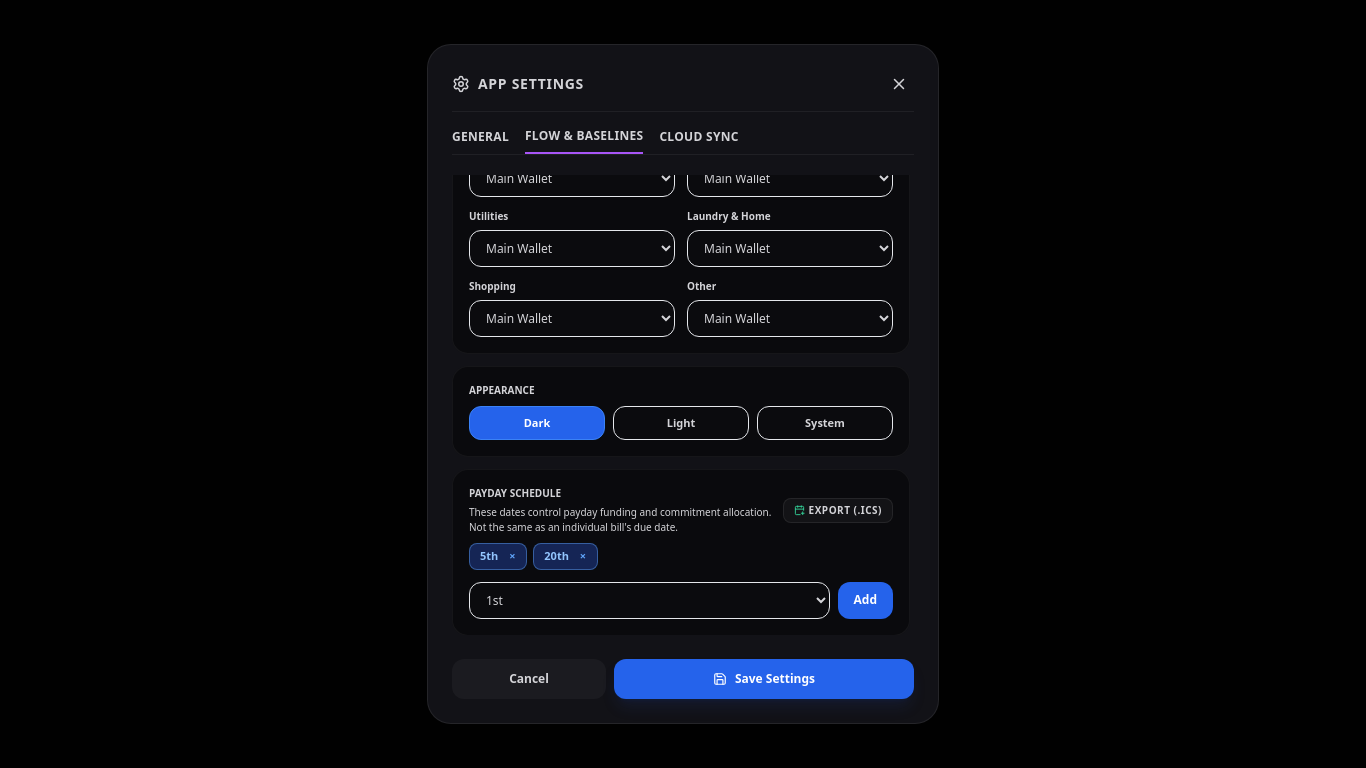
Scenario: SettingsModal - Custom Payday Configuration › removes a single custom payday while keeping others
(page scrolled)
Expected: the element with test id "payday-chip-5" is shown, 469,543 -> 527,570
Expected: the element with test id "payday-chip-20" is shown, 533,543 -> 598,570
What coordinates should you click on to do the following:
click the button named "Remove payday 5"
I would click on:
 (512, 556)
Its box is 504,548 -> 520,564.
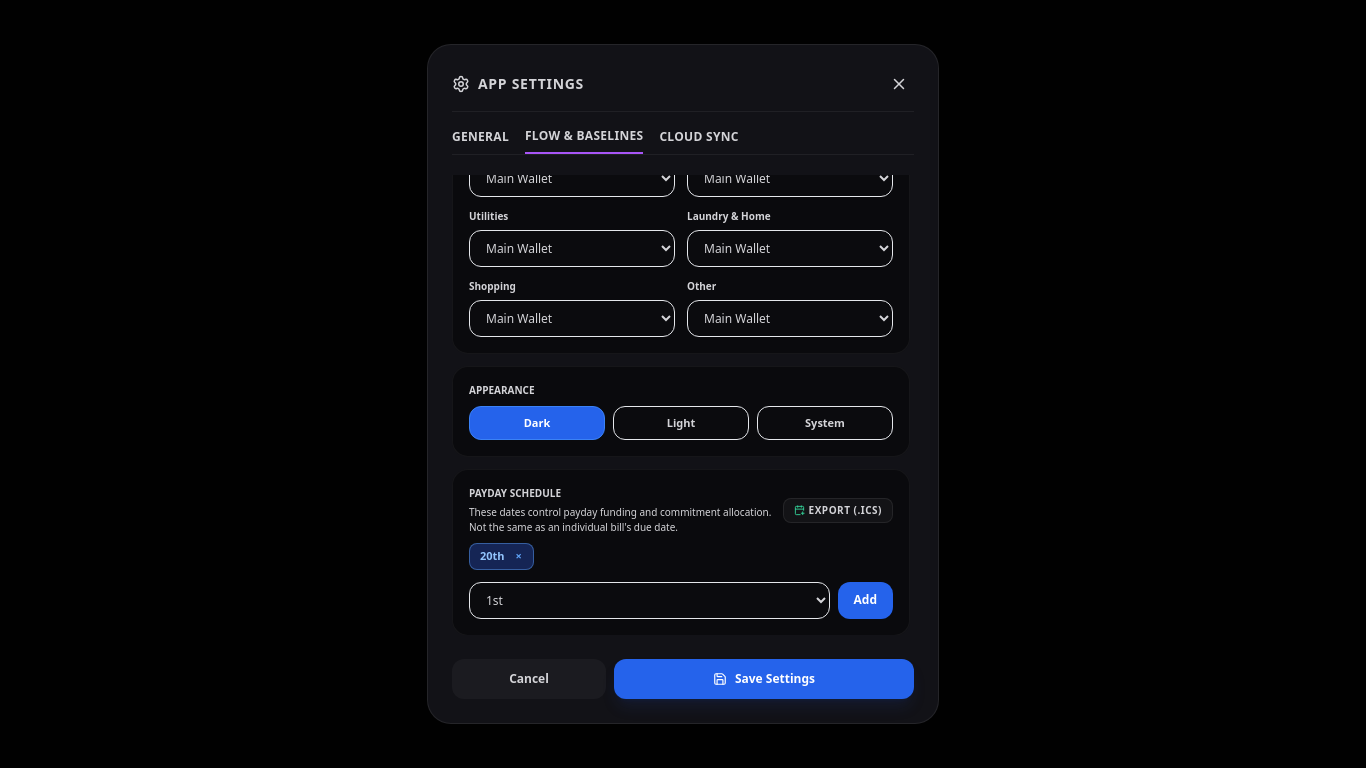
Expected: the element with test id "payday-chip-20" is shown, 469,543 -> 534,570
Result: the element with test id "payday-chip-5" is gone
